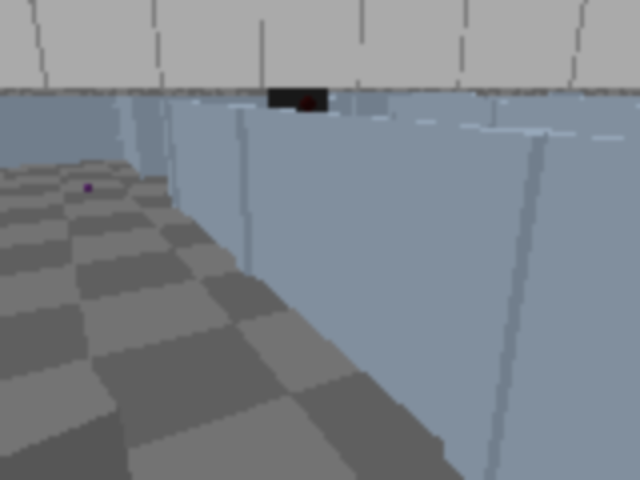obstacle: (0, 358, 137, 478)
